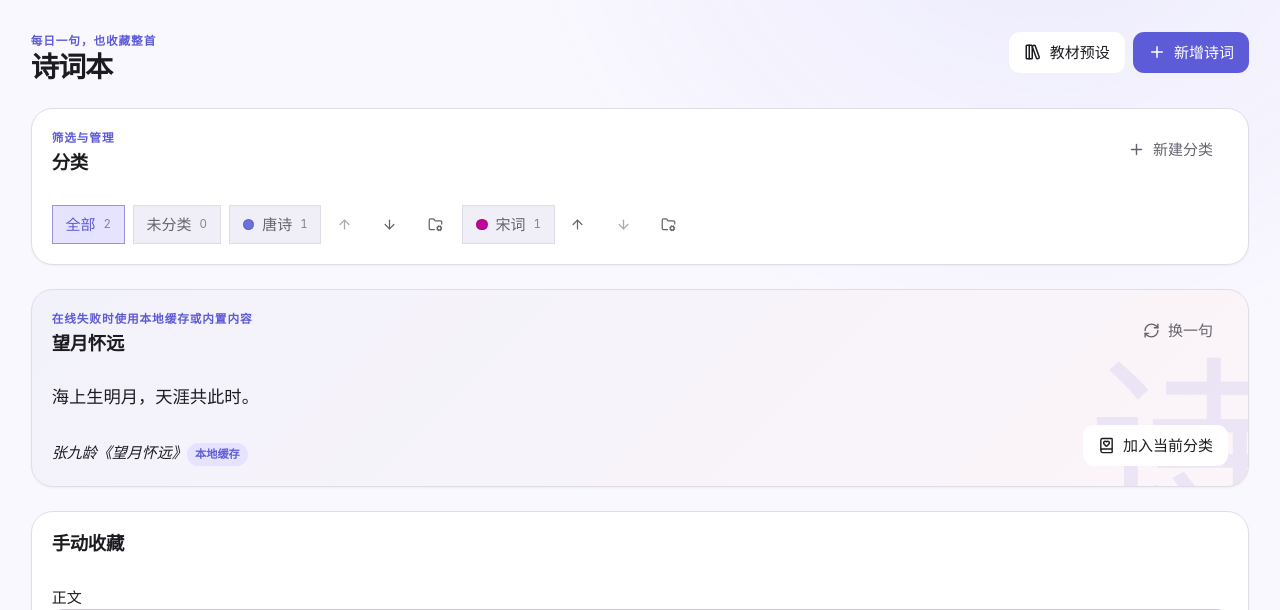
Scenario: PoetryPage › imports the shared Android preset and reports skipped duplicates
Click the button "教材预设": click(1067, 52) 1008,32 -> 1125,73
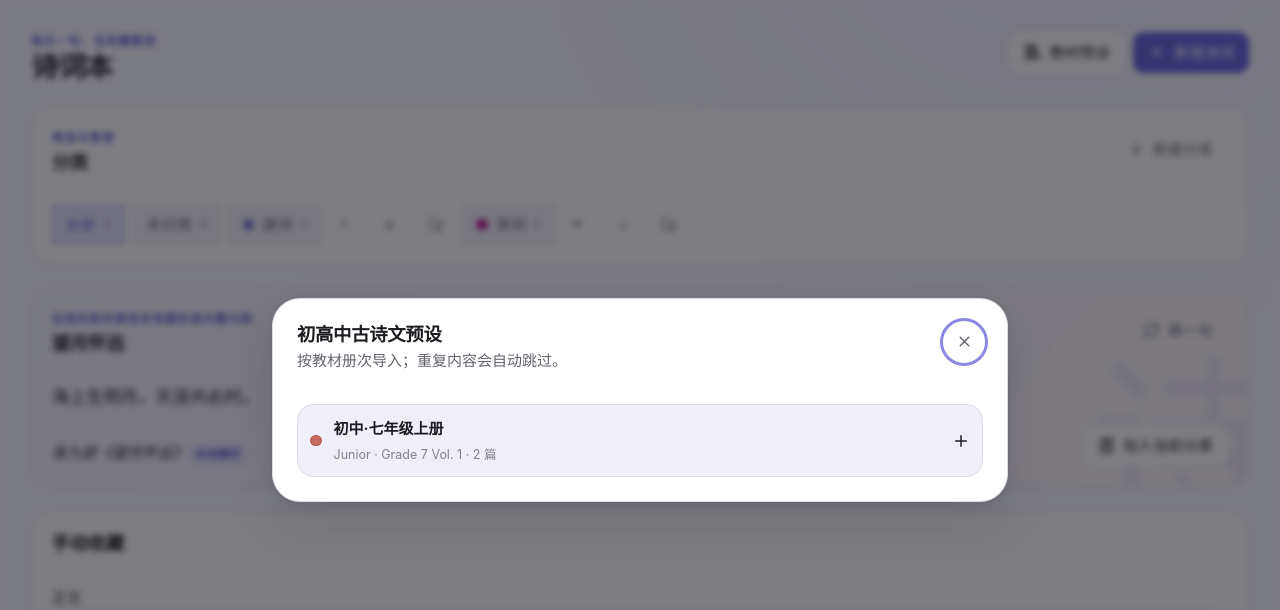
Click the button "初中·七年级上册 Junior · Grade 7 Vol. 1 · 2 篇": click(389, 429) 297,404 -> 983,477
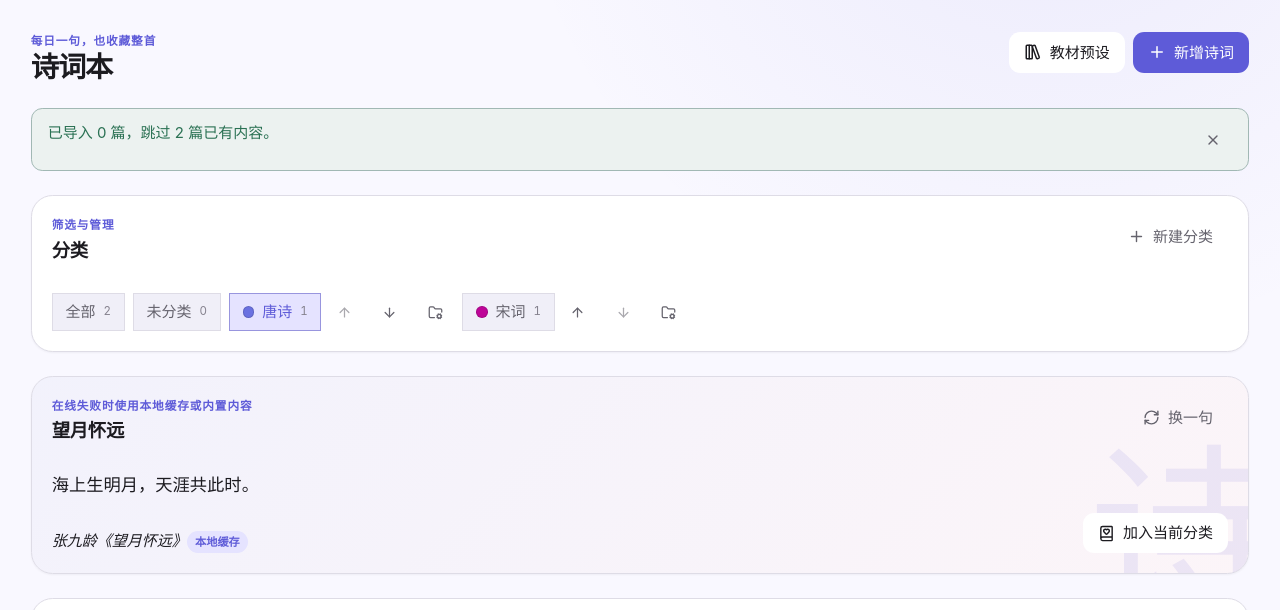
Check: the text "已导入 0 篇，跳过 2 篇已有内容。" is shown, box 48,121 -> 278,144
